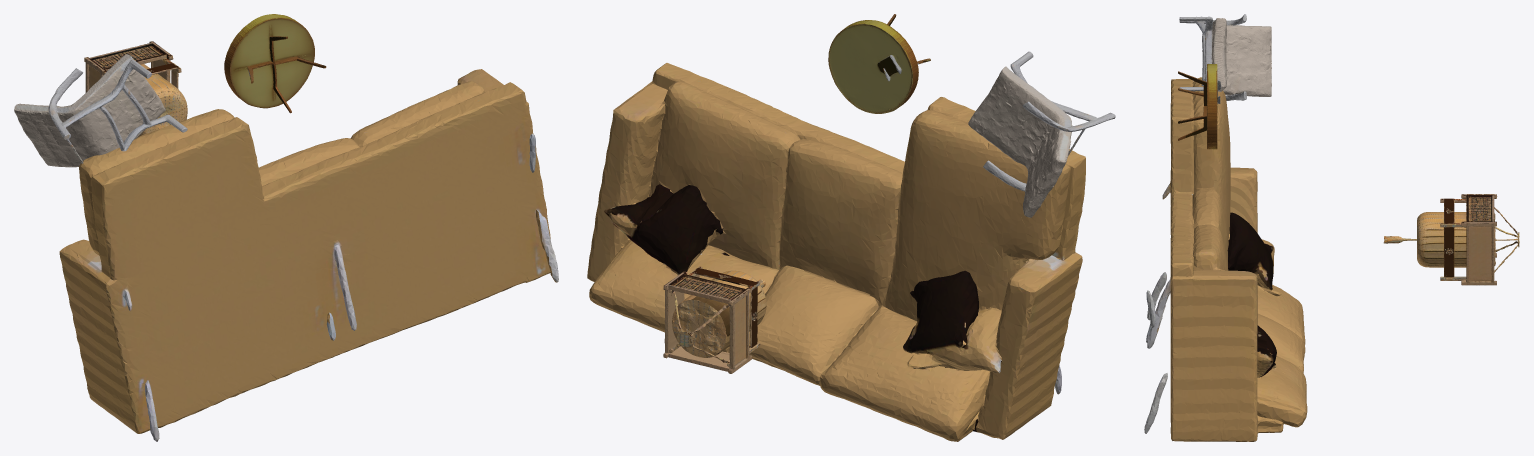
3 views of the same model, side by side, from view 1: azimuth 30°, elevation 25°; view 2: azimuth 150°, elevation 25°; view 3: azimuth 270°, elevation 25° (orthographic). The views are drawn at different scales.
Parts seen in each view (by area): view 1: scene_0000035_object_2_textured_scene_0000035_object_2_textu, scene_0000035_object_3_textured_scene_0000035_object_3_textu, scene_0000035_object_0_textured_scene_0000035_object_0_textu, scene_0000035_object_1_textured_scene_0000035_object_1_textu; view 2: scene_0000035_object_2_textured_scene_0000035_object_2_textu, scene_0000035_object_3_textured_scene_0000035_object_3_textu, scene_0000035_object_1_textured_scene_0000035_object_1_textu, scene_0000035_object_0_textured_scene_0000035_object_0_textu; view 3: scene_0000035_object_2_textured_scene_0000035_object_2_textu, scene_0000035_object_1_textured_scene_0000035_object_1_textu, scene_0000035_object_3_textured_scene_0000035_object_3_textu, scene_0000035_object_0_textured_scene_0000035_object_0_textu.
Boxes of the visible parts, x1,y1,x2,y2 form: scene_0000035_object_2_textured_scene_0000035_object_2_textu: (59,69,558,441); scene_0000035_object_3_textured_scene_0000035_object_3_textu: (14,54,187,167); scene_0000035_object_0_textured_scene_0000035_object_0_textu: (224,14,326,113); scene_0000035_object_1_textured_scene_0000035_object_1_textu: (84,41,187,136); scene_0000035_object_2_textured_scene_0000035_object_2_textu: (587,63,1085,441); scene_0000035_object_3_textured_scene_0000035_object_3_textu: (968,51,1115,217); scene_0000035_object_1_textured_scene_0000035_object_1_textu: (663,266,766,373); scene_0000035_object_0_textured_scene_0000035_object_0_textu: (828,14,930,113); scene_0000035_object_2_textured_scene_0000035_object_2_textu: (1144,77,1307,441); scene_0000035_object_1_textured_scene_0000035_object_1_textu: (1383,194,1519,285); scene_0000035_object_3_textured_scene_0000035_object_3_textu: (1179,14,1271,100); scene_0000035_object_0_textured_scene_0000035_object_0_textu: (1178,64,1221,149).
Bounding box in the file's own units: 3.5 × 2.5 × 2.68.
4 materials, 4 textured.
